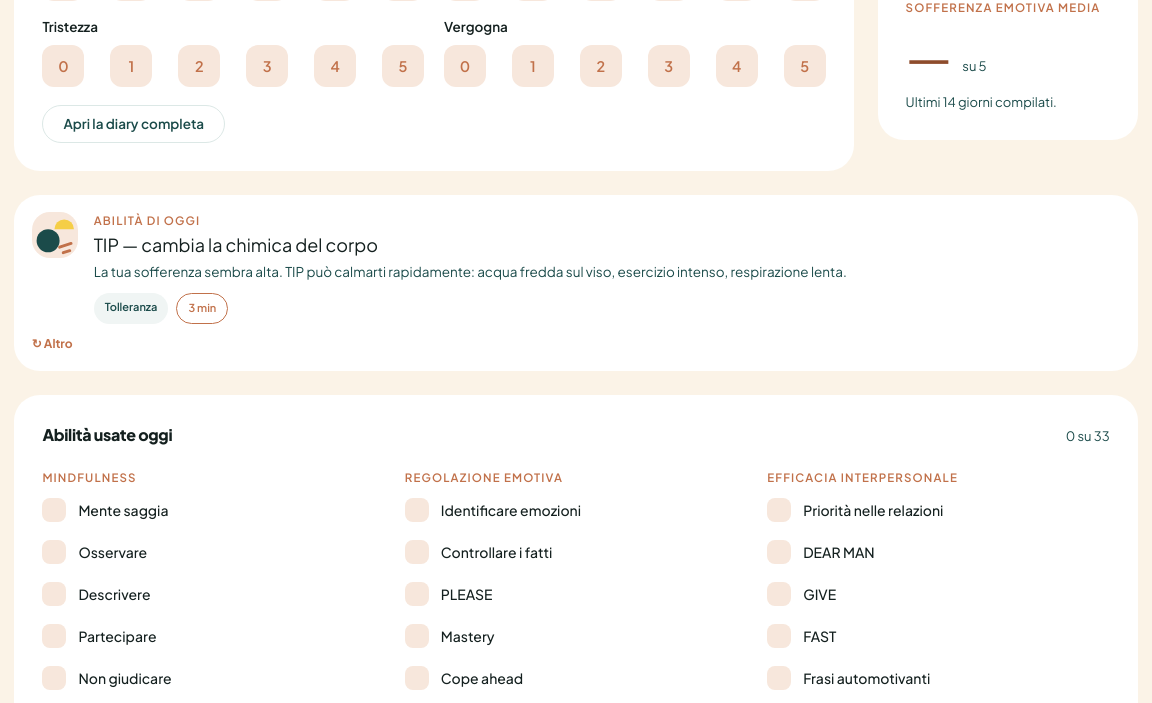
PaginaHome › "Altro" passa al suggerimento successivo e se ne ricorda
This screenshot has width=1152, height=703.
(page scrolled)
expect the text "TIP — cambia la chimica del corpo" is shown: met, box [94,233,378,256]
Click the button "↻ Altro".
click(52, 343)  # box [32,336,73,350]
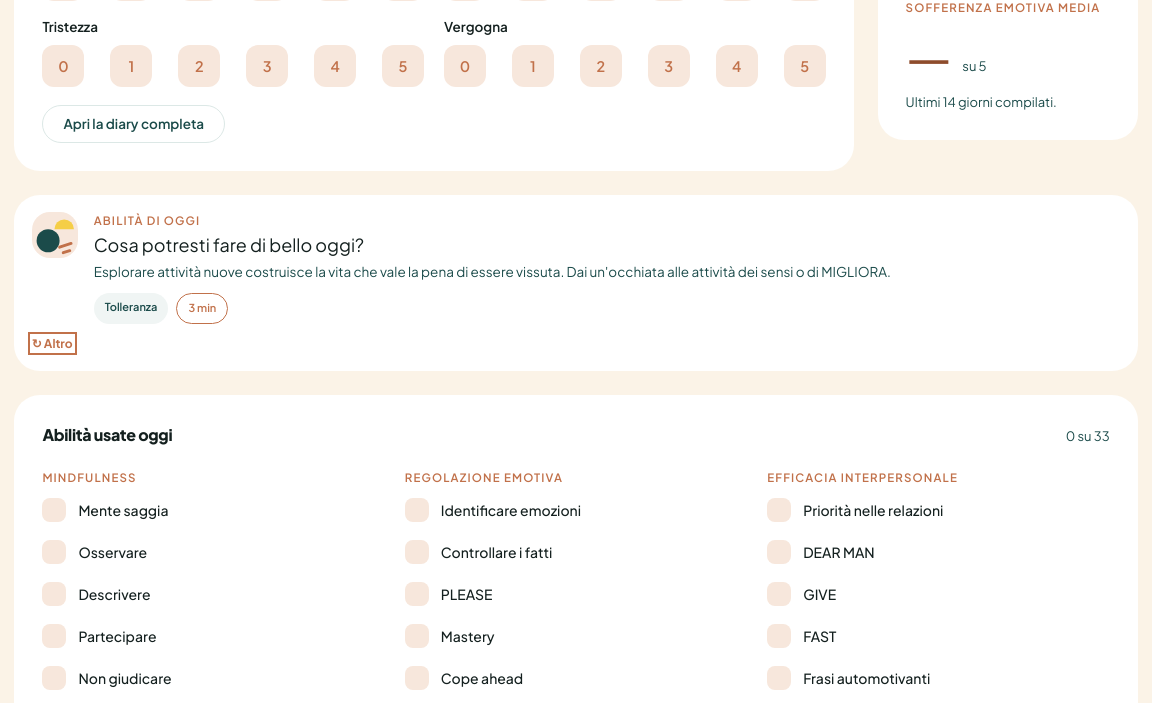
expect the link "TIP — cambia la chimica del corpo" is gone: met
